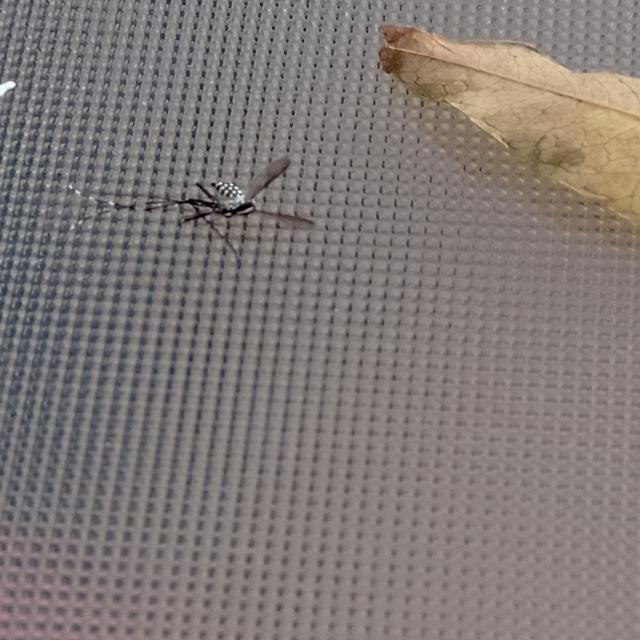albopictus: (108, 150, 317, 247)
